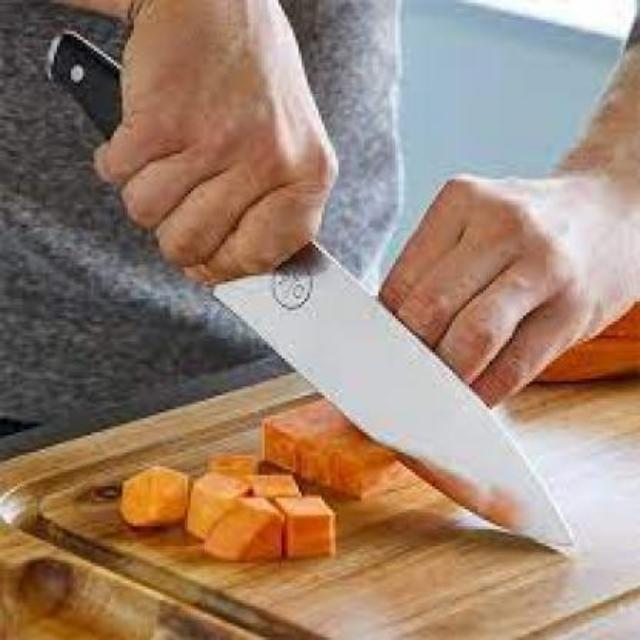Knife: (49, 33, 575, 551)
